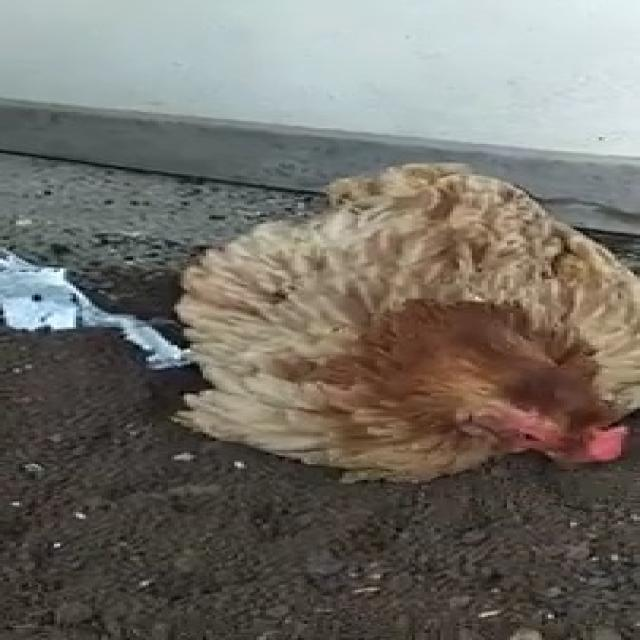stand bath: (158, 182, 640, 510)
